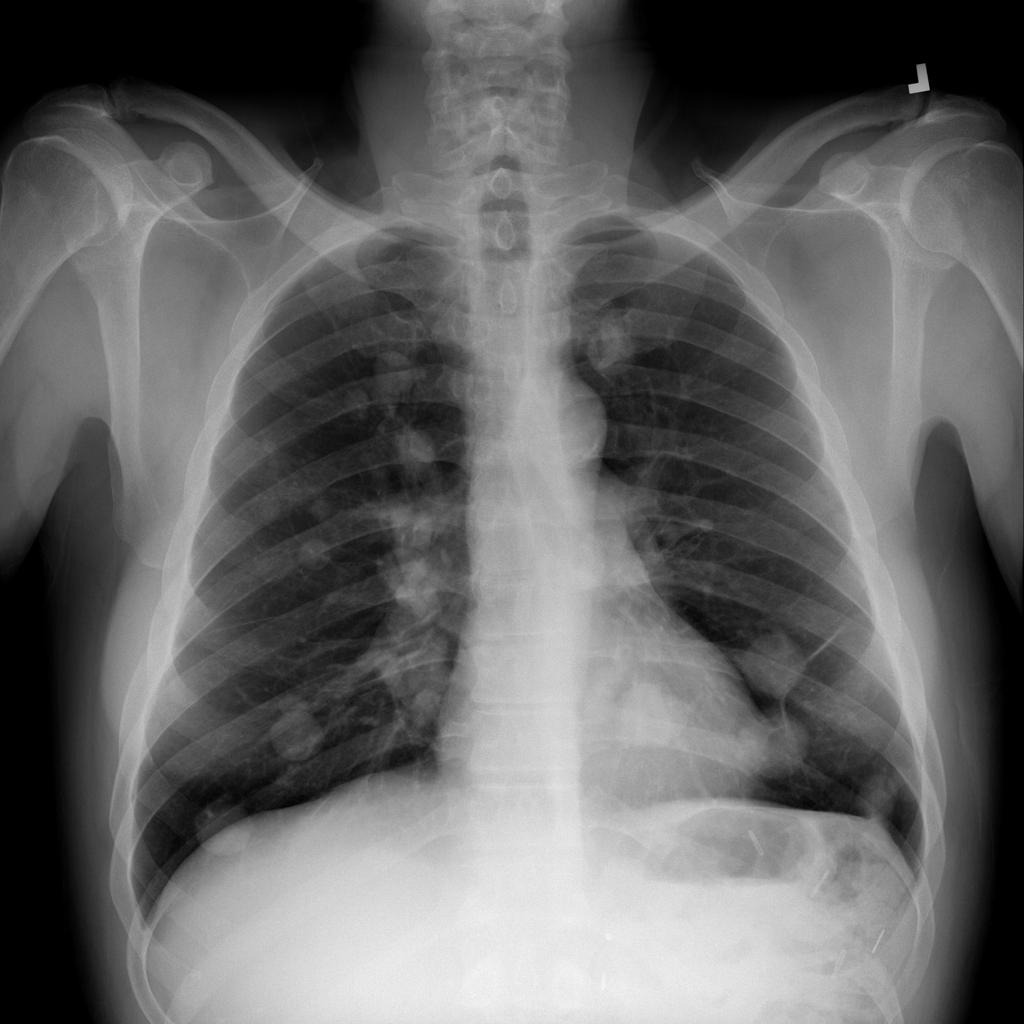nodule: (600, 656, 701, 768), (716, 696, 823, 792), (255, 694, 338, 772), (732, 626, 815, 702), (178, 793, 269, 862), (844, 757, 918, 836), (575, 307, 649, 383), (354, 339, 425, 410), (381, 415, 450, 481), (287, 529, 341, 579), (288, 485, 343, 532), (330, 381, 379, 428)
